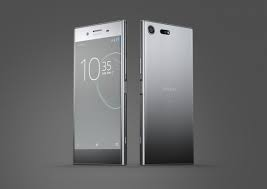sony: (137, 21, 198, 166)
